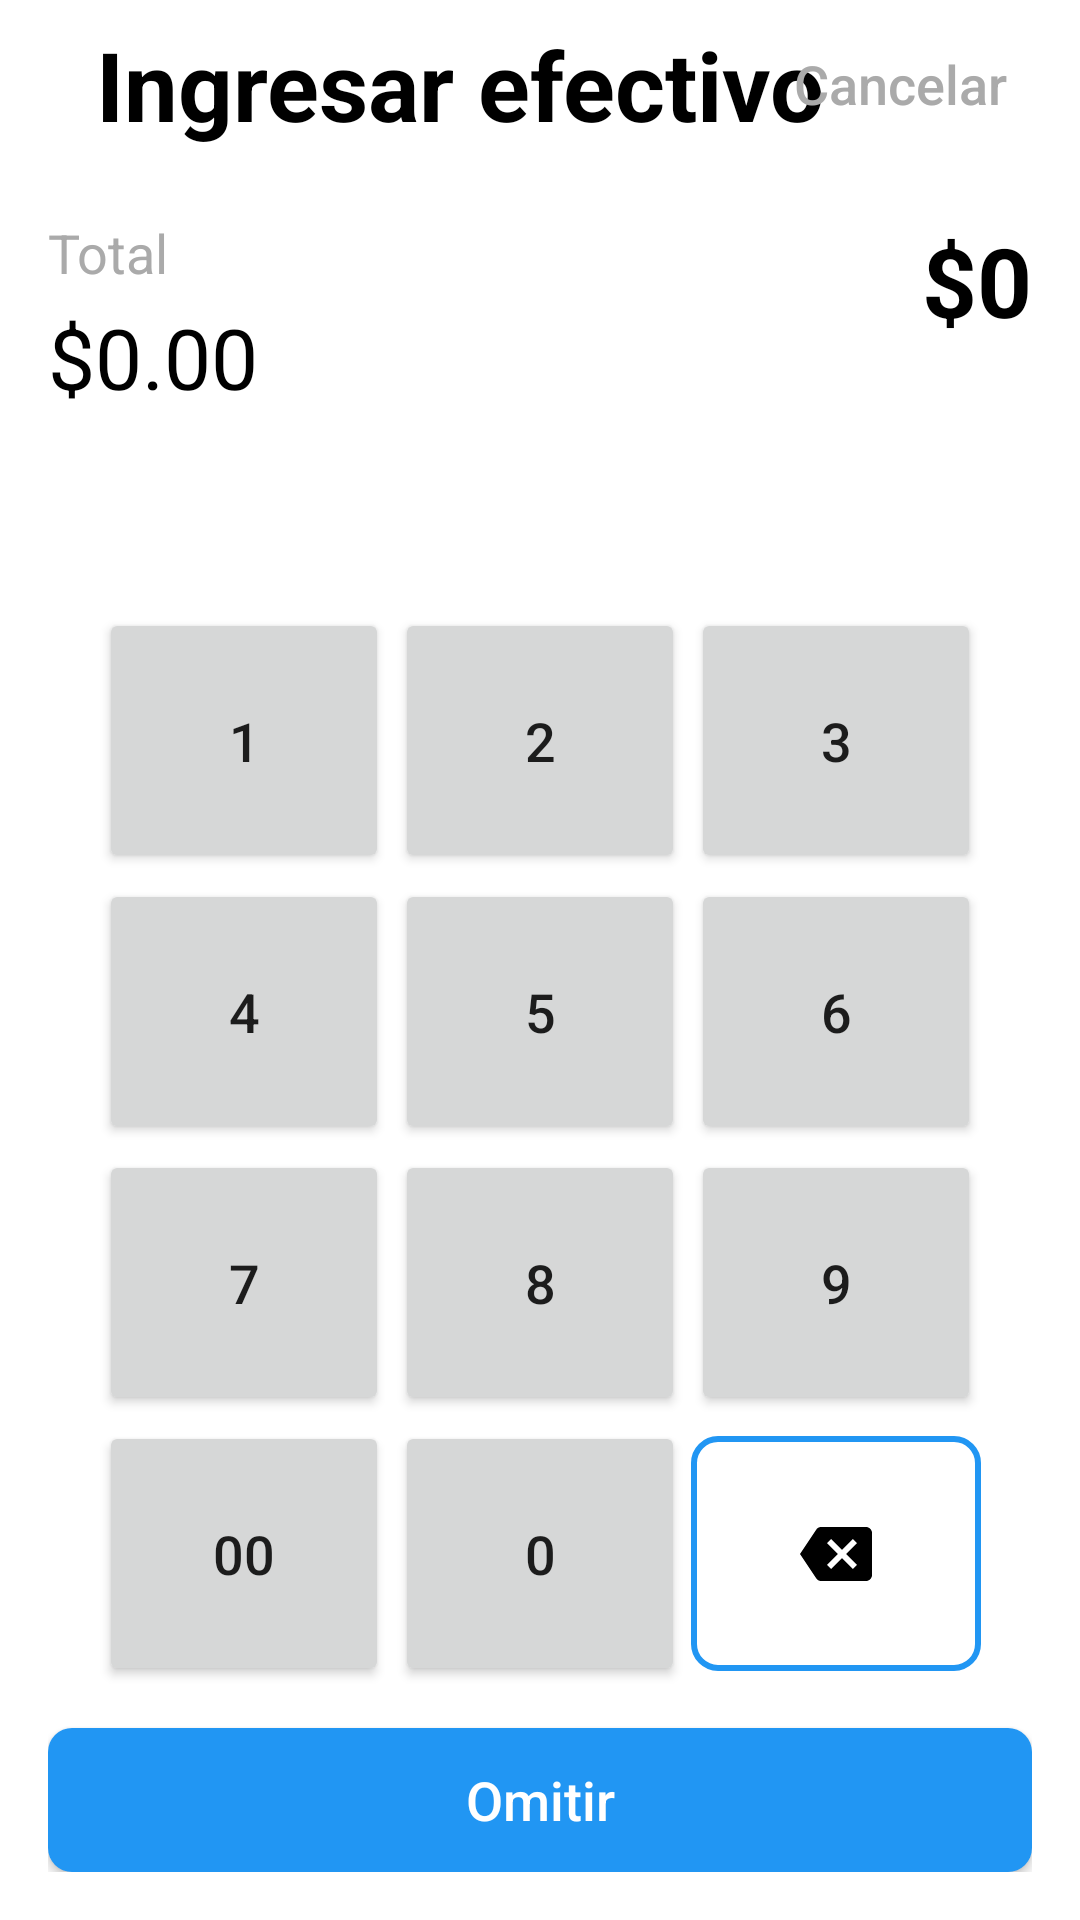

Named icons in this screenshot (1080 x 1920) and their bounding boxes, (left=x1, top=y1, right=x2, bottom=y2):
backspace: (left=691, top=1436, right=981, bottom=1671)
